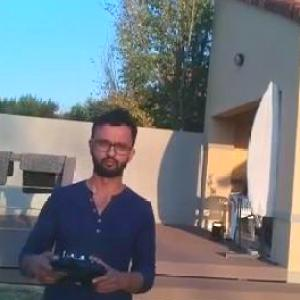follow: (12, 99, 162, 299)
